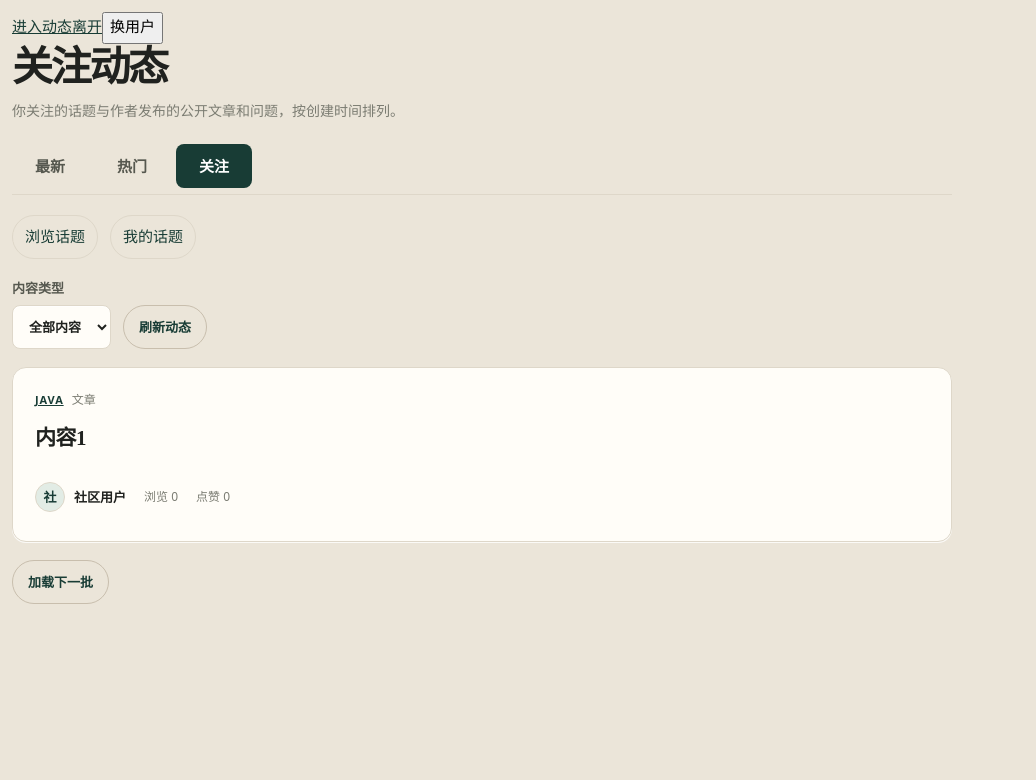
it: 关注动态 › retains cards after next-batch failure and retries the same cursor only
The image size is (1036, 780).
Click the button "加载下一批" at coordinates (60, 582), box [12,560,109,604]
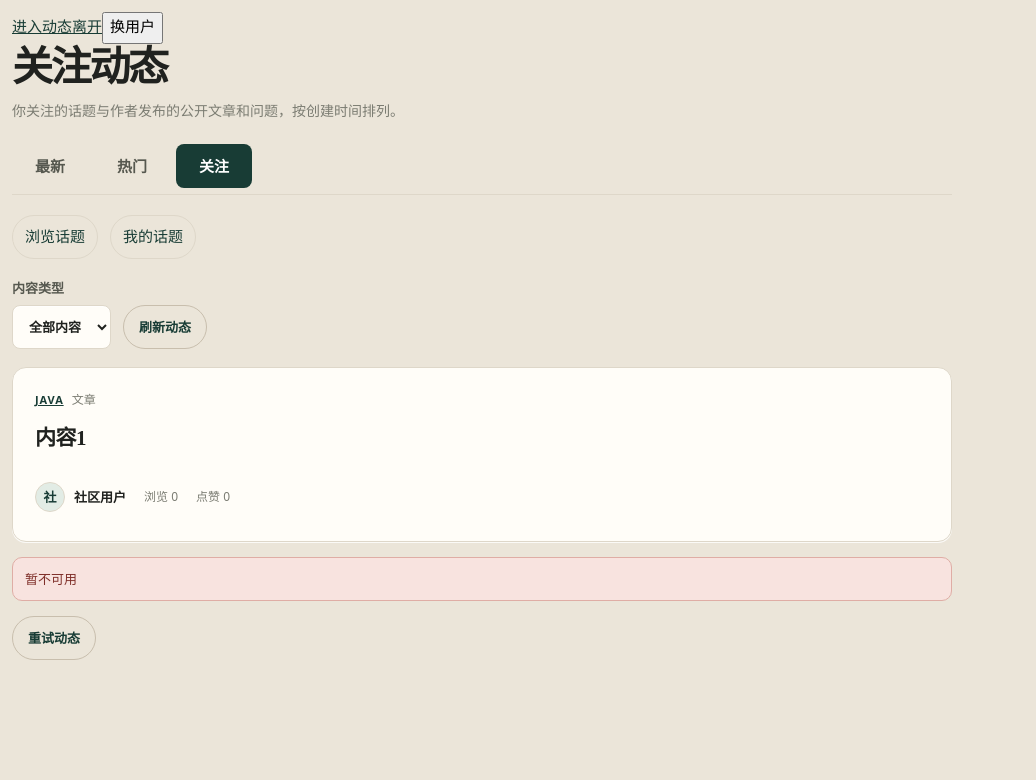
Expected: the link "内容1" is shown, [35,420,86,457]
Expected: the text "暂不可用" is shown, [12,557,952,602]
Click the button "重试动态" at coordinates (54, 638), box [12,616,96,660]
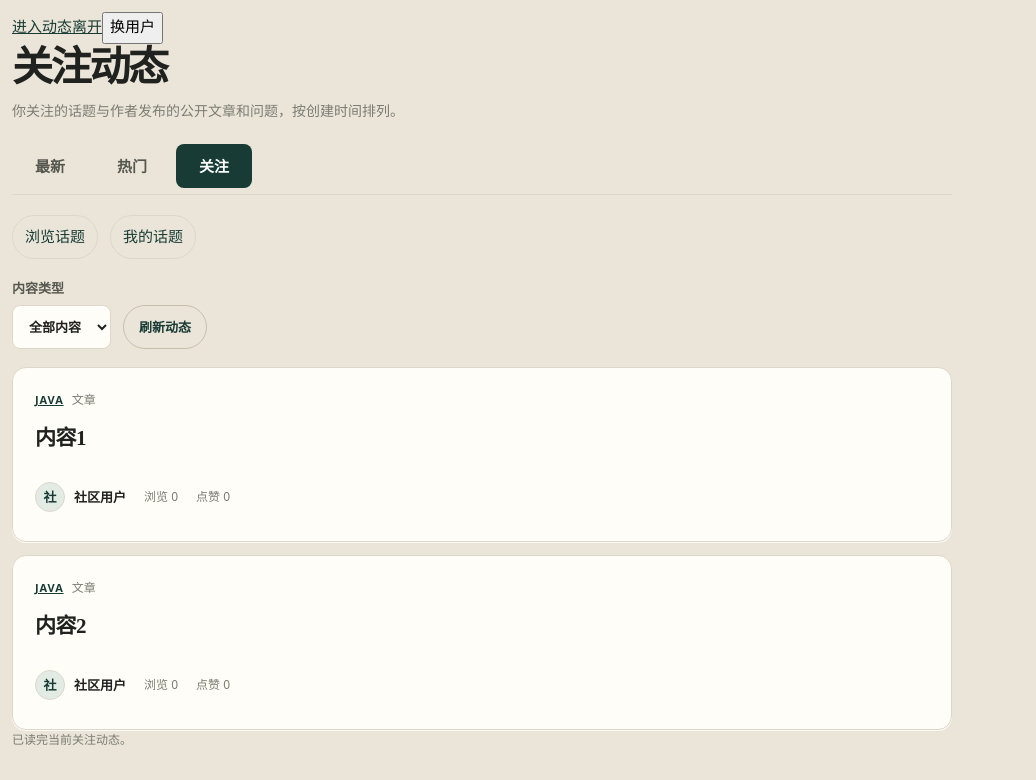
Expected: the link "内容2" is shown, [35,608,86,645]
